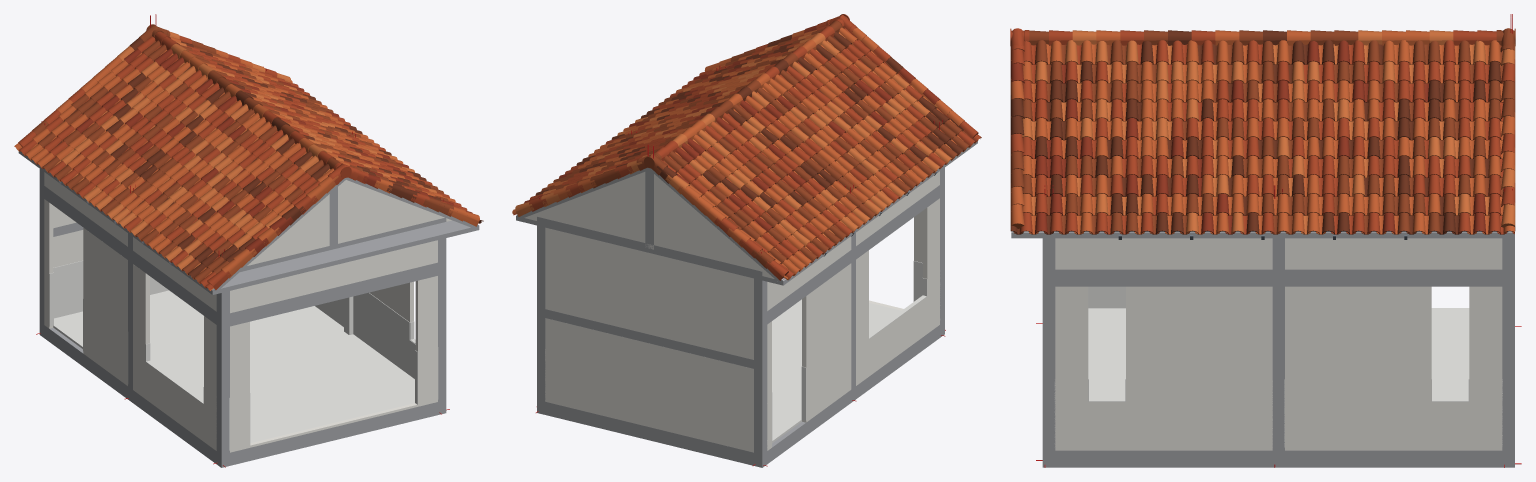
The picture shows the model from 3 angles, left to right: view 1: azimuth 30°, elevation 25°; view 2: azimuth 150°, elevation 25°; view 3: azimuth 270°, elevation 25°; orthographic projection. The views are drawn at different scales.
Visible parts, largest first — view 1: Gạch xây (×5), Bê tông (×16), Lớp lát nền, Tường CtyAI, Gạch ốp (×2); view 2: Gạch xây (×6), Bê tông (×17), Lớp lát nền; view 3: Gạch xây (×2), Bê tông (×11), Lớp lát nền, Vữa tô.
Part boxes in pixels (<box>): Gạch xây (×5): <box>44,172,437,452</box>; Bê tông (×16): <box>18,151,479,467</box>; Lớp lát nền: <box>53,290,414,442</box>; Tường CtyAI: <box>247,180,451,265</box>; Gạch ốp (×2): <box>53,260,415,378</box>; Gạch xây (×6): <box>524,171,939,452</box>; Bê tông (×17): <box>516,141,977,467</box>; Lớp lát nền: <box>772,299,901,442</box>; Gạch xây (×2): <box>1055,238,1502,450</box>; Bê tông (×11): <box>1011,232,1514,467</box>; Lớp lát nền: <box>1088,308,1469,398</box>; Vữa tô: <box>1088,286,1125,308</box>.
Size of the model in its own units: 6.56 by 6.67 by 8.12.
